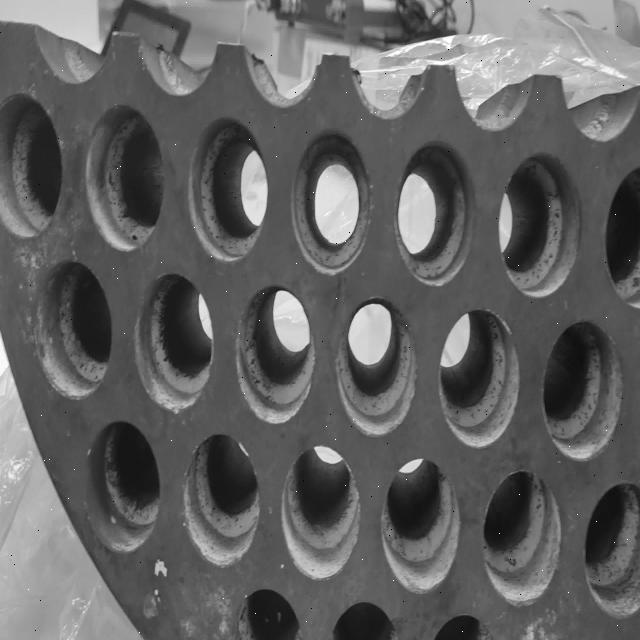Hole: (498, 152, 582, 298), (290, 129, 372, 275), (187, 117, 268, 263), (438, 306, 520, 449), (84, 104, 163, 252), (234, 283, 316, 425), (394, 139, 473, 286), (134, 271, 214, 414), (336, 296, 416, 438), (542, 320, 623, 460), (280, 444, 361, 580), (483, 467, 562, 606), (34, 260, 112, 400), (380, 457, 460, 593), (182, 431, 260, 568), (86, 418, 161, 554), (1, 91, 64, 239), (583, 481, 640, 621), (604, 164, 640, 310), (233, 585, 304, 639), (329, 599, 402, 639)
